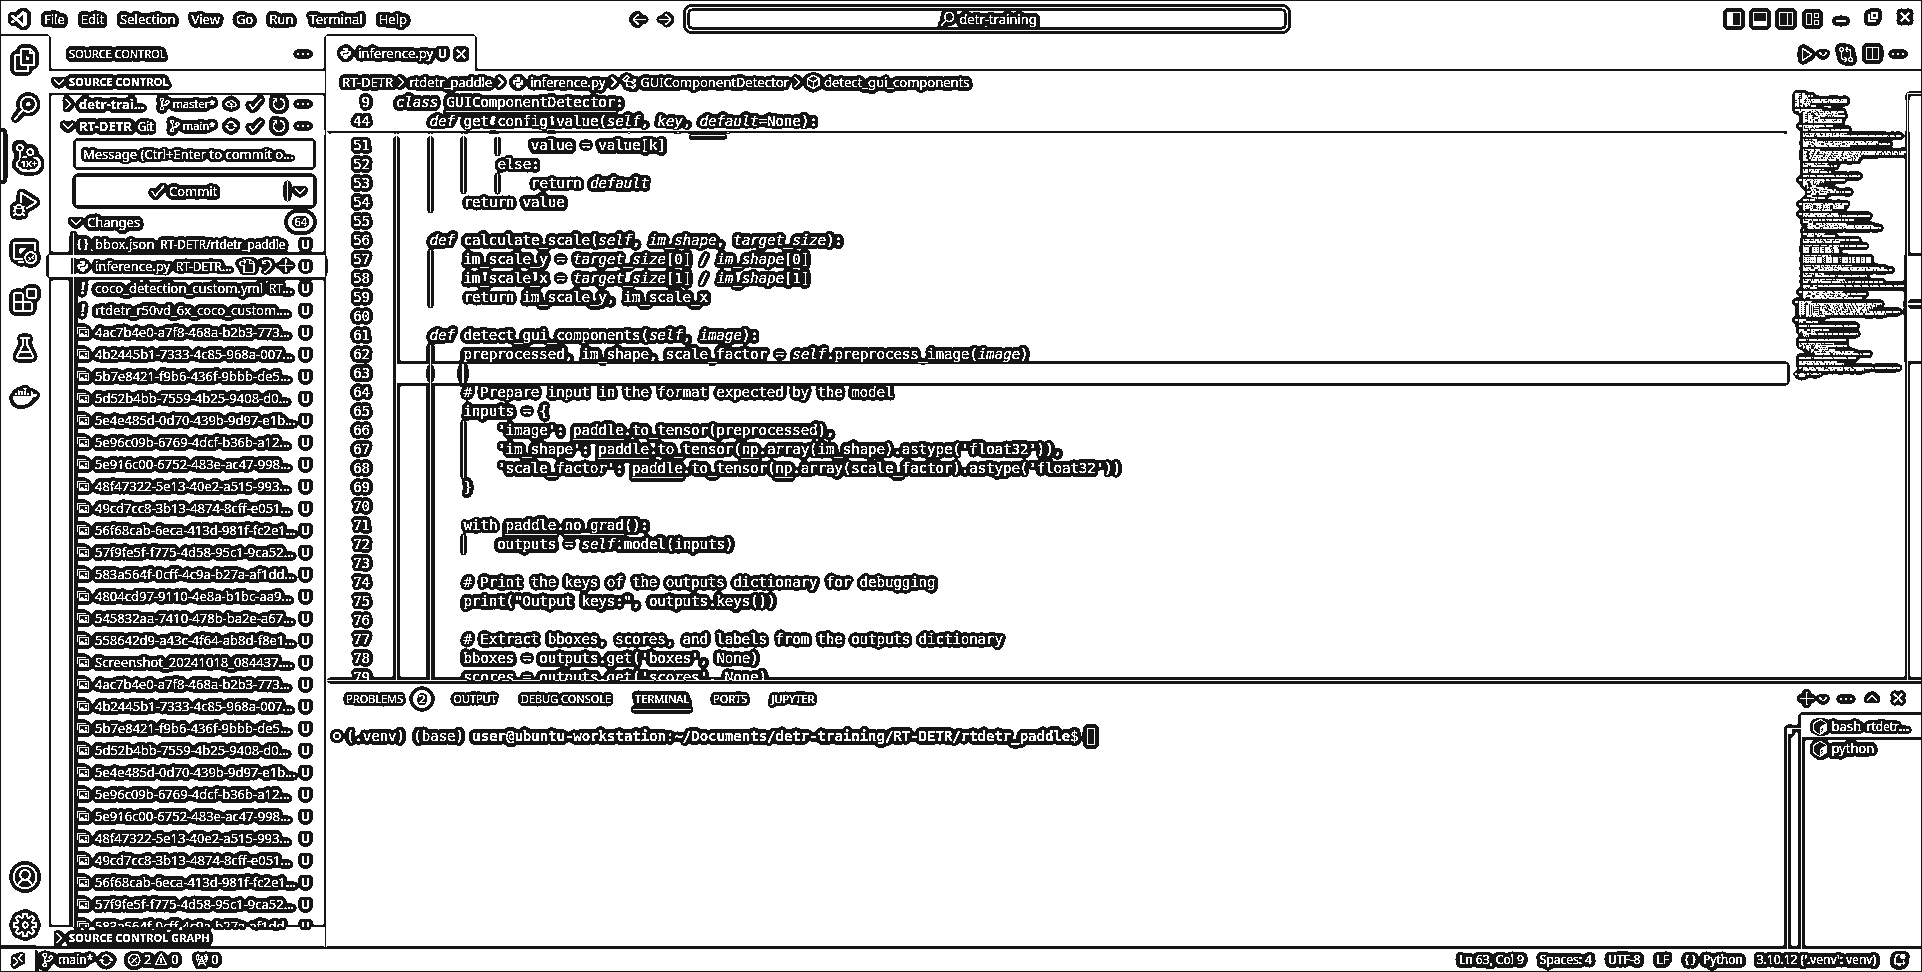Accounts: (7, 855, 40, 893)
Activity Bar: (0, 41, 50, 948)
Close: (1895, 7, 1915, 24)
Editor: (318, 31, 1920, 687)
Explorer: (5, 43, 38, 78)
Extensions: (5, 279, 42, 317)
Manage: (7, 906, 41, 940)
Maximize: (1859, 7, 1884, 24)
Minimize: (1832, 5, 1851, 27)
Panel: (318, 676, 1920, 948)
Primary Side Bar: (46, 29, 322, 946)
Run and Debug: (4, 183, 41, 224)
Search: (2, 86, 40, 126)
Search Bar: (679, 2, 1292, 33)
Source Control: (4, 133, 42, 176)
Status Bar: (1, 941, 1920, 970)
Testing: (5, 325, 43, 365)
Top Bar: (2, 1, 1920, 38)
